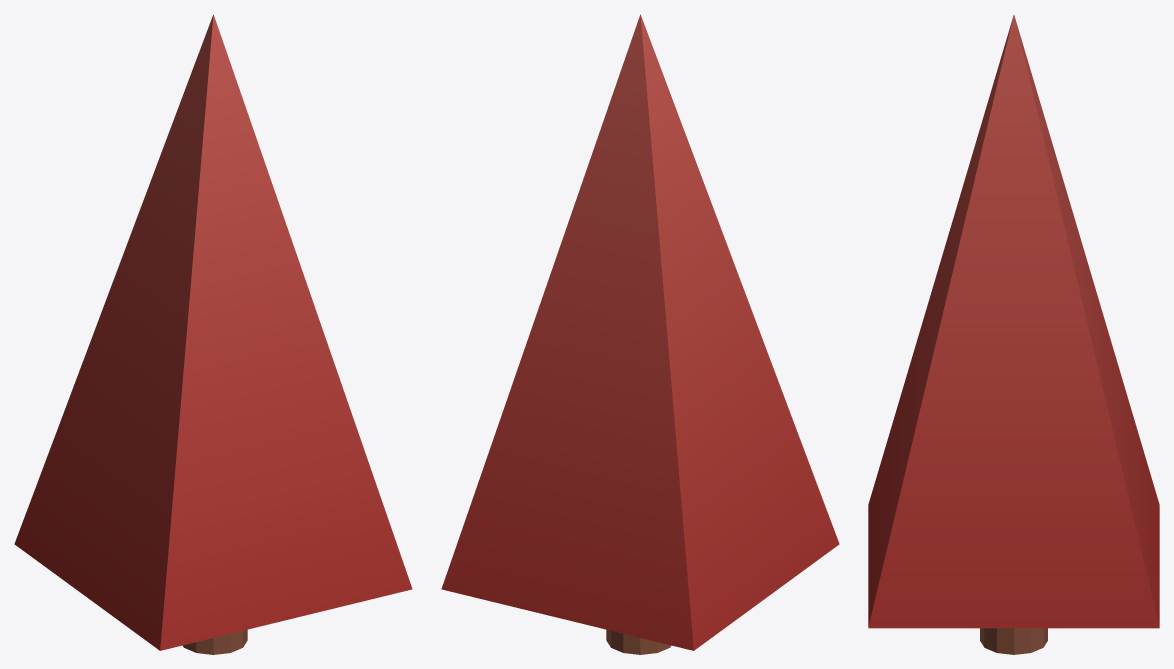
Rendered from Tree_36_gradient_red_pal.fbx.
The picture shows the model from 3 angles, left to right: view 1: azimuth 30°, elevation 25°; view 2: azimuth 150°, elevation 25°; view 3: azimuth 270°, elevation 25°; orthographic projection.
Visible parts, largest first — view 1: Tree_36_gradient_red_pal; view 2: Tree_36_gradient_red_pal; view 3: Tree_36_gradient_red_pal.
Boxes of the visible parts, x1,y1,x2,y2 form: Tree_36_gradient_red_pal: [14, 14, 412, 654]; Tree_36_gradient_red_pal: [441, 14, 839, 654]; Tree_36_gradient_red_pal: [868, 15, 1159, 654].
Bounding box in the file's own units: 69.07 × 164 × 69.07.
